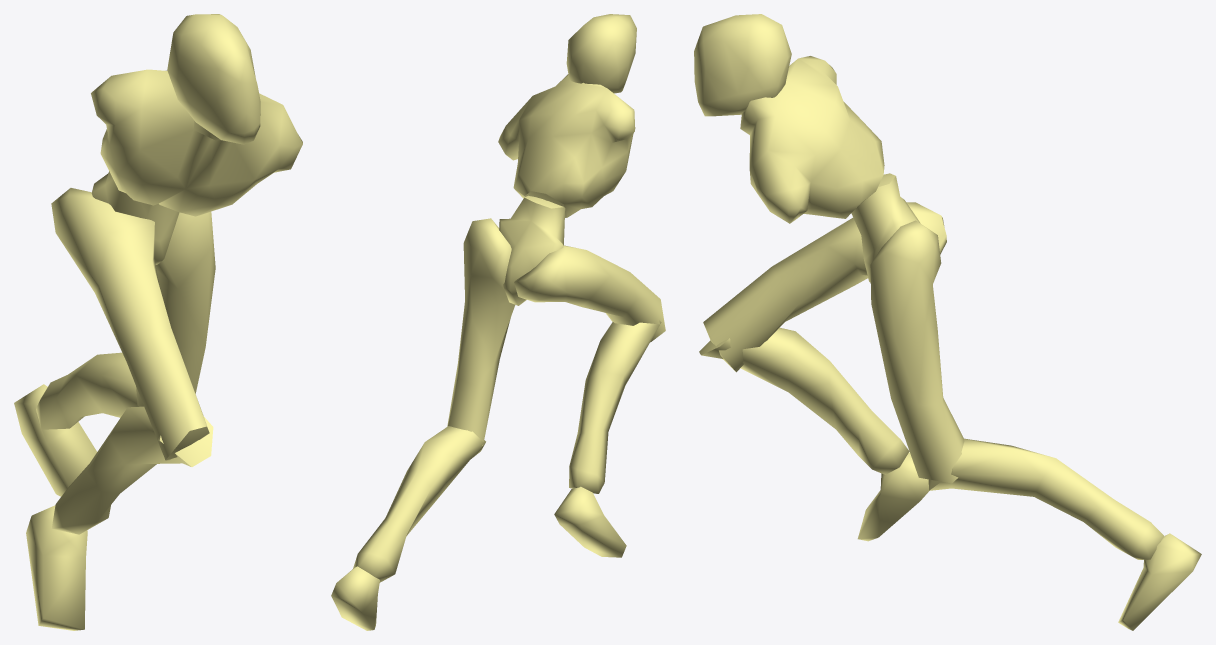
Rendered from filth32.obj.
3 renders of one model, left to right at view 1: azimuth 30°, elevation 25°; view 2: azimuth 150°, elevation 25°; view 3: azimuth 270°, elevation 25°, orthographic. The views are drawn at different scales.
Visible parts, largest first — view 1: Melee_Husk; view 2: Melee_Husk; view 3: Melee_Husk.
Boxes of the visible parts, x1=… form: Melee_Husk: x1=14, y1=14, x2=302, y2=630; Melee_Husk: x1=331, y1=14, x2=665, y2=630; Melee_Husk: x1=694, y1=14, x2=1201, y2=630.
Size of the model in its own units: 22.16 by 64.43 by 51.74.
